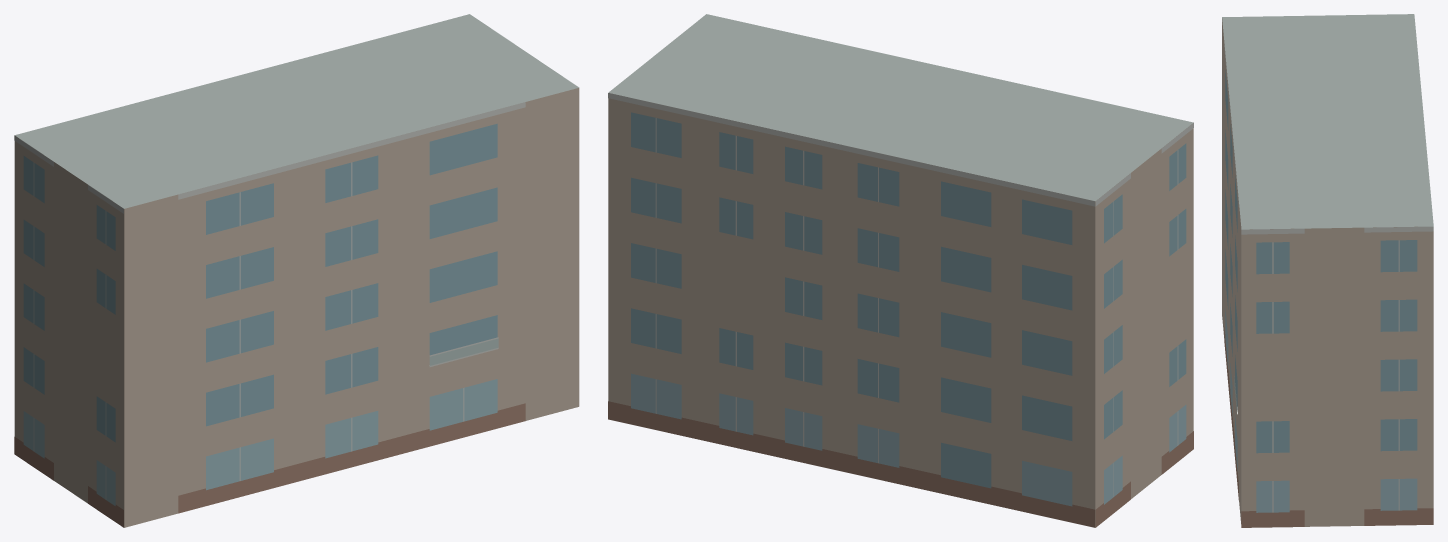
The model's file is survey-upis-32556062.glb.
The picture shows the model from 3 angles, left to right: view 1: azimuth 30°, elevation 25°; view 2: azimuth 150°, elevation 25°; view 3: azimuth 270°, elevation 25°; orthographic projection. The views are drawn at different scales.
Visible parts, largest first — view 1: survey-upis-32556062.tmp; view 2: survey-upis-32556062.tmp; view 3: survey-upis-32556062.tmp.
Part boxes in pixels (box(x1,y1,x2,y2)): survey-upis-32556062.tmp: box(14, 14, 579, 527); survey-upis-32556062.tmp: box(608, 14, 1193, 527); survey-upis-32556062.tmp: box(1222, 14, 1433, 527).
Size of the model in its own units: 22.64 by 14.6 by 9.4.
